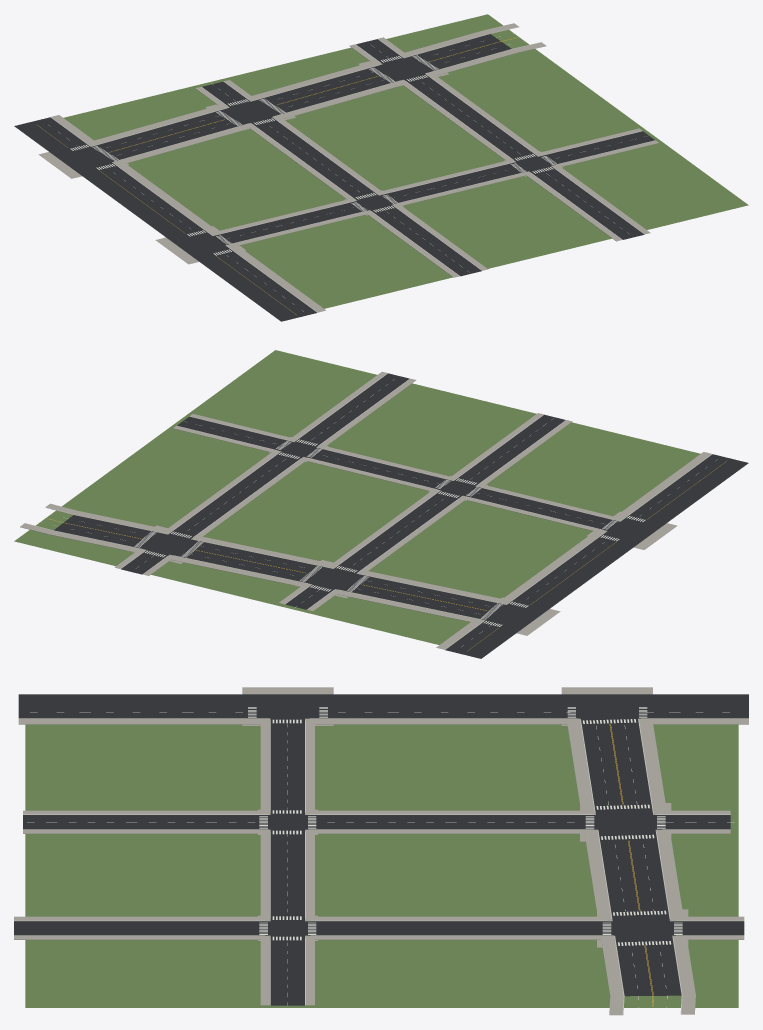
File: Ground_4_6.fbx
3 views of the same model, one above another, from view 1: azimuth 30°, elevation 25°; view 2: azimuth 150°, elevation 25°; view 3: azimuth 270°, elevation 25° (orthographic). The views are drawn at different scales.
Visible parts, largest first — view 1: Ground_4_6; view 2: Ground_4_6; view 3: Ground_4_6.
Part boxes in pixels (x1,y1,x2,y2): Ground_4_6: (14, 14, 748, 321); Ground_4_6: (14, 350, 748, 658); Ground_4_6: (14, 687, 748, 1015).
Bounding box in the file's own units: 272 × 0.14 × 258.
